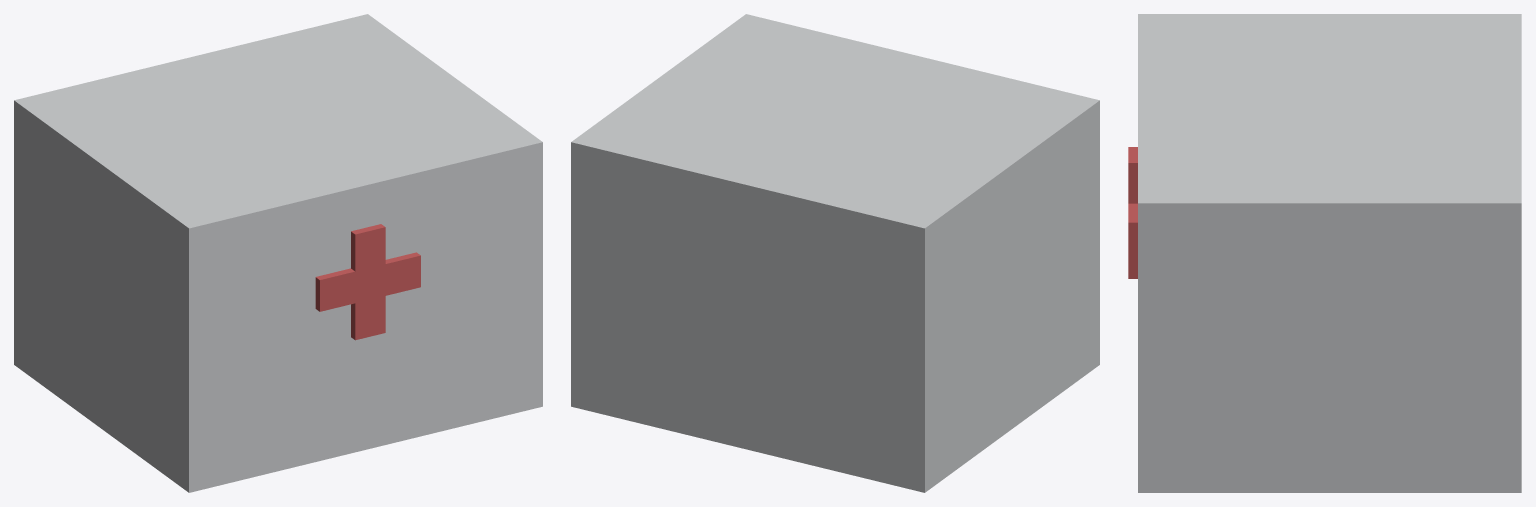
File: medical.glb
The picture shows the model from 3 angles, left to right: view 1: azimuth 30°, elevation 25°; view 2: azimuth 150°, elevation 25°; view 3: azimuth 270°, elevation 25°; orthographic projection. The views are drawn at different scales.
Parts seen in each view (by area): view 1: part_1, part_2, part_3; view 2: part_1; view 3: part_1, part_2, part_3.
Part boxes in pixels (x1,y1,x2,y2): part_1: (14,14,542,492); part_2: (351,224,385,340); part_3: (315,252,420,311); part_1: (571,14,1099,492); part_1: (1138,14,1521,492); part_2: (1128,147,1137,278); part_3: (1128,203,1137,257).
Size of what is drawn, in the model's own units: 7 by 5 by 6.15.
